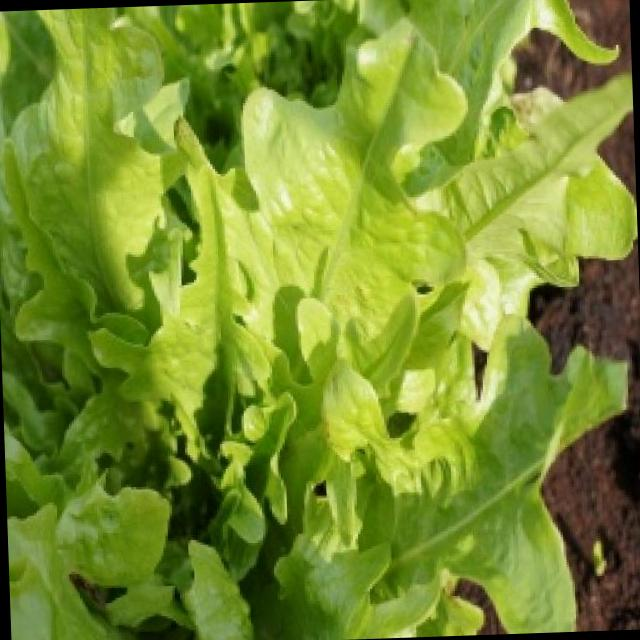Lettuce-Ready-to-Harvest: (0, 0, 637, 640)
